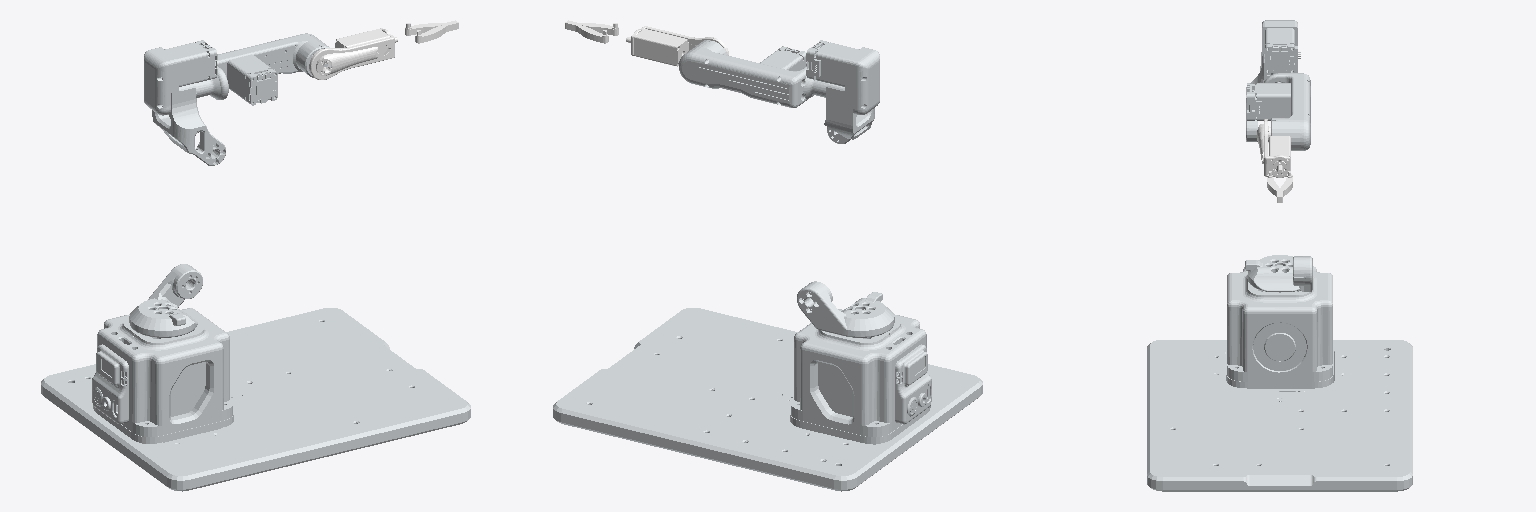
The robot description file, URDF, robot "dummy_gripper":
<?xml version="1.0" encoding="utf-8"?>
<!-- This URDF was automatically created by SolidWorks to URDF Exporter! Originally created by [author] ([email redacted]) 
     Commit Version: 1.6.0-4-g7f85cfe  Build Version: 1.6.7995.38578
     For more information, please see http://wiki.ros.org/sw_urdf_exporter -->
<robot
  name="dummy_gripper">
  <mujoco>
        <compiler
         meshdir="../meshes/"
         balanceinertia="true"
         discardvisual="false" />
  </mujoco>
  
  <link name="world"/>
  <joint name="world_joint" type="fixed">
    <parent link="world"/>
    <child link="base_link"/>
    <origin rpy="0.0 0 0" xyz="0.0 0.0 0.015"/>
  </joint>
  
  <link
    name="base_link">
    <inertial>
      <origin
        xyz="0.06352313 0.00005052 0.01001277"
        rpy="0 0 0" />
      <mass
        value="4.47348191" />
      <inertia
        ixx="0.02026074"
        ixy="-0.00002236"
        ixz="-0.00503211"
        iyy="0.03749287"
        iyz="0.00000105"
        izz="0.05047190" />
    </inertial>
    <visual>
      <origin
        xyz="0 0 0"
        rpy="0 0 0" />
      <geometry>
        <mesh
          filename="package://dummy_gripper/meshes/base_link.STL" />
      </geometry>
      <material
        name="">
        <color
          rgba="0.89804 0.91765 0.92941 1" />
      </material>
    </visual>
    <collision>
      <origin
        xyz="0 0 0"
        rpy="0 0 0" />
      <geometry>
        <mesh
          filename="package://dummy_gripper/meshes/base_link.STL" />
      </geometry>
    </collision>
  </link>
  <link
    name="shoulder_link">
    <inertial>
      <origin
        xyz="0.00565647 0.00561557 0.01103681"
        rpy="0 0 0" />
      <mass
        value="0.1407715" />
      <inertia
        ixx="0.00005229"
        ixy="0.00001930"
        ixz="0.00001380"
        iyy="0.00006103"
        iyz="0.00000886"
        izz="0.00008635" />
    </inertial>
    <visual>
      <origin
        xyz="0 0 0"
        rpy="0 0 0" />
      <geometry>
        <mesh
          filename="package://dummy_gripper/meshes/shoulder_link.STL" />
      </geometry>
      <material
        name="">
        <color
          rgba="0.89804 0.91765 0.92941 1" />
      </material>
    </visual>
    <collision>
      <origin
        xyz="0 0 0"
        rpy="0 0 0" />
      <geometry>
        <mesh
          filename="package://dummy_gripper/meshes/shoulder_link.STL" />
      </geometry>
    </collision>
  </link>
  <joint
    name="joint1"
    type="revolute">
    <origin
      xyz="0 0 0.0865"
      rpy="0 0 0" />
    <parent
      link="base_link" />
    <child
      link="shoulder_link" />
    <axis
      xyz="0 0 1" />
    <limit
      lower="-3"
      upper="3"
      effort="12"
      velocity="5" />
  </joint>
  <link
    name="upper_link">
    <inertial>
      <origin
        xyz="0.00158183 -0.07501807 -0.00456731"
        rpy="0 0 0" />
      <mass
        value="1.43844277" />
      <inertia
        ixx="0.00507361"
        ixy="0.00002388"
        ixz="0.00000254"
        iyy="0.00046490"
        iyz="-0.00003900"
        izz="0.00501055" />
    </inertial>
    <visual>
      <origin
        xyz="0 0 0"
        rpy="0 0 0" />
      <geometry>
        <mesh
          filename="package://dummy_gripper/meshes/upper_link.STL" />
      </geometry>
      <material
        name="">
        <color
          rgba="0.89804 0.91765 0.92941 1" />
      </material>
    </visual>
    <collision>
      <origin
        xyz="0 0 0"
        rpy="0 0 0" />
      <geometry>
        <mesh
          filename="package://dummy_gripper/meshes/upper_link.STL" />
      </geometry>
    </collision>
  </link>
  <joint
    name="joint2"
    type="revolute">
    <origin
      xyz="0.035 0 0.0275"
      rpy="-1.5708 0 0" />
    <parent
      link="shoulder_link" />
    <child
      link="upper_link" />
    <axis
      xyz="0 0 1" />
    <limit
      lower="-1.3"
      upper="1.57"
      effort="7.2"
      velocity="5" />
  </joint>
  <link
    name="forearm_link">
    <inertial>
      <origin
        xyz="0.05703139 -0.01762985 -0.00275017"
        rpy="0 0 0" />
      <mass
        value="0.30020083" />
      <inertia
        ixx="0.00009108"
        ixy="0.00001444"
        ixz="0.00003605"
        iyy="0.00022161"
        iyz="-0.00000225"
        izz="0.00023032" />
    </inertial>
    <visual>
      <origin
        xyz="0 0 0"
        rpy="0 0 0" />
      <geometry>
        <mesh
          filename="package://dummy_gripper/meshes/forearm_link.STL" />
      </geometry>
      <material
        name="">
        <color
          rgba="0.89804 0.91765 0.92941 1" />
      </material>
    </visual>
    <collision>
      <origin
        xyz="0 0 0"
        rpy="0 0 0" />
      <geometry>
        <mesh
          filename="package://dummy_gripper/meshes/forearm_link.STL" />
      </geometry>
    </collision>
  </link>
  <joint
    name="joint3"
    type="revolute">
    <origin
      xyz="0 -0.146 0"
      rpy="0 0 -1.5708" />
    <parent
      link="upper_link" />
    <child
      link="forearm_link" />
    <axis
      xyz="0 0 1" />
    <limit
      lower="-1.3"
      upper="1.57"
      effort="7.2"
      velocity="5" />
  </joint>
  <link
    name="wrist1_link">
    <inertial>
      <origin
        xyz="-0.00006733 0.00046890 0.07837243"
        rpy="0 0 0" />
      <mass
        value="0.28251937" />
      <inertia
        ixx="0.00046397"
        ixy="-0.00000018"
        ixz="-0.00000024"
        iyy="0.00042945"
        iyz="0.00002835"
        izz="0.00007048" />
    </inertial>
    <visual>
      <origin
        xyz="0 0 0"
        rpy="0 0 0" />
      <geometry>
        <mesh
          filename="package://dummy_gripper/meshes/wrist1_link.STL" />
      </geometry>
      <material
        name="">
        <color
          rgba="0.89804 0.91765 0.92941 1" />
      </material>
    </visual>
    <collision>
      <origin
        xyz="0 0 0"
        rpy="0 0 0" />
      <geometry>
        <mesh
          filename="package://dummy_gripper/meshes/wrist1_link.STL" />
      </geometry>
    </collision>
  </link>
  <joint
    name="joint4"
    type="revolute">
    <origin
      xyz="0.052 -0.0115 0"
      rpy="1.5708 0 -3.1416" />
    <parent
      link="forearm_link" />
    <child
      link="wrist1_link" />
    <axis
      xyz="0 0 1" />
    <limit
      lower="-3.14"
      upper="3.14"
      effort="3.6"
      velocity="5" />
  </joint>
  <link
    name="wrist2_link">
    <inertial>
      <origin
        xyz="0.04395300 0.00000000 -0.00234400"
        rpy="0 0 0" />
      <mass
        value="0.11168657" />
      <inertia
        ixx="0.00000983"
        ixy="0.00000000"
        ixz="0.00000532"
        iyy="0.00004722"
        iyz="0.00000000"
        izz="0.00004525" />
    </inertial>
    <visual>
      <origin
        xyz="0 0 0"
        rpy="0 0 0" />
      <geometry>
        <mesh
          filename="package://dummy_gripper/meshes/wrist2_link.STL" />
      </geometry>
      <material
        name="">
        <color
          rgba="1 1 1 1" />
      </material>
    </visual>
    <collision>
      <origin
        xyz="0 0 0"
        rpy="0 0 0" />
      <geometry>
        <mesh
          filename="package://dummy_gripper/meshes/wrist2_link.STL" />
      </geometry>
    </collision>
  </link>
  <joint
    name="joint5"
    type="revolute">
    <origin
      xyz="0 0 0.134"
      rpy="1.5708 -1.5708 3.1416" />
    <parent
      link="wrist1_link" />
    <child
      link="wrist2_link" />
    <axis
      xyz="0 0 1" />
    <limit
      lower="-2.1"
      upper="2.1"
      effort="3.6"
      velocity="5" />
  </joint>
  <link
    name="wrist3_link">
    <inertial>
      <origin
        xyz="0.00112758 -0.00037575 -0.04507409"
        rpy="0 0 0" />
      <mass
        value="0.02694263" />
      <inertia
        ixx="0.00000822"
        ixy="-0.00000005"
        ixz="0.00000003"
        iyy="0.00000501"
        iyz="0.00000003"
        izz="0.00000741" />
    </inertial>
    <visual>
      <origin
        xyz="0 0 0"
        rpy="0 0 0" />
      <geometry>
        <mesh
          filename="package://dummy_gripper/meshes/FlexGripper.STL" />
      </geometry>
      <material
        name="">
        <color
          rgba="1 1 1 1" />
      </material>
    </visual>
    <collision>
      <origin
        xyz="0 0 0"
        rpy="0 0 0" />
      <geometry>
        <mesh
          filename="package://dummy_gripper/meshes/FlexGripper.STL" />
      </geometry>
    </collision>
  </link>
  <joint
    name="joint6"
    type="revolute">
    <origin
      xyz="0.13725 0 0"
      rpy="1.5708 0 1.5708" />
    <parent
      link="wrist2_link" />
    <child
      link="wrist3_link" />
    <axis
      xyz="0 0 1" />
    <limit
      lower="-6.28"
      upper="6.28"
      effort="0.6"
      velocity="5" />
  </joint>
  <link
    name="finger_left">
    <inertial>
      <origin
        xyz="0.00056483 -0.00903053 -0.00450228"
        rpy="0 0 0" />
      <mass
        value="0.03003680" />
      <inertia
        ixx="0.00001061"
        ixy="-0.00000006"
        ixz="-0.00000005"
        iyy="0.00000727"
        iyz="0.00000005"
        izz="0.00000755" />
    </inertial>
    <visual>
      <origin
        xyz="0 0 0"
        rpy="0 0 0" />
      <geometry>
        <mesh
          filename="package://dummy_gripper/meshes/finger_left.STL" />
      </geometry>
      <material
        name="">
        <color
          rgba="1 1 1 1" />
      </material>
    </visual>
    <collision>
      <origin
        xyz="0 0 0"
        rpy="0 0 0" />
      <geometry>
        <mesh
          filename="package://dummy_gripper/meshes/finger_left.STL" />
      </geometry>
    </collision>
  </link>

  <joint
    name="finger_left_joint"
    type="revolute">
    <origin
      xyz="0.00025007 0.00925 -0.03825"
      rpy="0 0 0" />
    <parent
      link="wrist3_link" />
    <child
      link="finger_left" />
    <axis
      xyz="-1 0 0" />
    <limit
      lower="0"
      upper="0.78"
      effort="0.2"
      velocity="3" />
  </joint>

  <link
    name="finger_right">
    <inertial>
      <origin
        xyz="0.00056483 0.00925188 -0.00450332"
        rpy="0 0 0" />
      <mass
        value="0.03003680" />
      <inertia
        ixx="0.00001061"
        ixy="-0.00000006"
        ixz="-0.00000004"
        iyy="0.00000726"
        iyz="0.00000002"
        izz="0.00000766" />
    </inertial>
    <visual>
      <origin
        xyz="0 0 0"
        rpy="0 0 0" />
      <geometry>
        <mesh
          filename="package://dummy_gripper/meshes/finger_right.STL" />
      </geometry>
      <material
        name="">
        <color
          rgba="1 1 1 1" />
      </material>
    </visual>
    <collision>
      <origin
        xyz="0 0 0"
        rpy="0 0 0" />
      <geometry>
        <mesh
          filename="package://dummy_gripper/meshes/finger_right.STL" />
      </geometry>
    </collision>
  </link>
  <joint
    name="finger_right_joint"
    type="revolute">
    <origin
      xyz="0.00025007 -0.00925 -0.03825"
      rpy="0 0 0" />
    <parent
      link="wrist3_link" />
    <child
      link="finger_right" />
    <axis
      xyz="1 0 0" />
    <limit
      lower="0"
      upper="0.78"
      effort="0.2"
      velocity="3" />
    <mimic 
      joint="finger_left_joint" 
      multiplier="1" 
      offset="0" />
  </joint>


</robot>

--- Facts derived from the render (not from the file) ---
Views: 3 orthographic renders of the robot side by side, from view 1: azimuth 30°, elevation 25°; view 2: azimuth 150°, elevation 25°; view 3: azimuth 270°, elevation 25°.
Model dummy_gripper with 10 links and 9 joints (8 revolute, 1 fixed), rooted at world, posed every joint at zero.
Visible links, largest first — view 1: base_link, forearm_link, wrist1_link, shoulder_link, wrist2_link; view 2: base_link, wrist1_link, forearm_link, shoulder_link, wrist2_link; view 3: base_link, wrist1_link, forearm_link, shoulder_link, wrist2_link.
Link boxes in pixels (left/top/right/bottom): base_link: left=41, top=308, right=470, bottom=491; forearm_link: left=144, top=40, right=225, bottom=165; wrist1_link: left=196, top=33, right=331, bottom=105; shoulder_link: left=129, top=264, right=202, bottom=337; wrist2_link: left=309, top=28, right=397, bottom=79; base_link: left=553, top=308, right=982, bottom=491; wrist1_link: left=679, top=40, right=827, bottom=107; forearm_link: left=806, top=40, right=879, bottom=143; shoulder_link: left=797, top=281, right=894, bottom=337; wrist2_link: left=626, top=26, right=728, bottom=66; base_link: left=1147, top=265, right=1412, bottom=491; wrist1_link: left=1247, top=73, right=1310, bottom=150; forearm_link: left=1246, top=20, right=1300, bottom=141; shoulder_link: left=1245, top=255, right=1312, bottom=292; wrist2_link: left=1257, top=119, right=1290, bottom=177.
Size in the robot's own frame: 0.3643 by 0.25 by 0.3681 metres.
Meshes: 9 distinct files referenced, 7 mesh visuals loaded (7 binary STL); not drawn: 2 (reference not matched to a file when rendering).